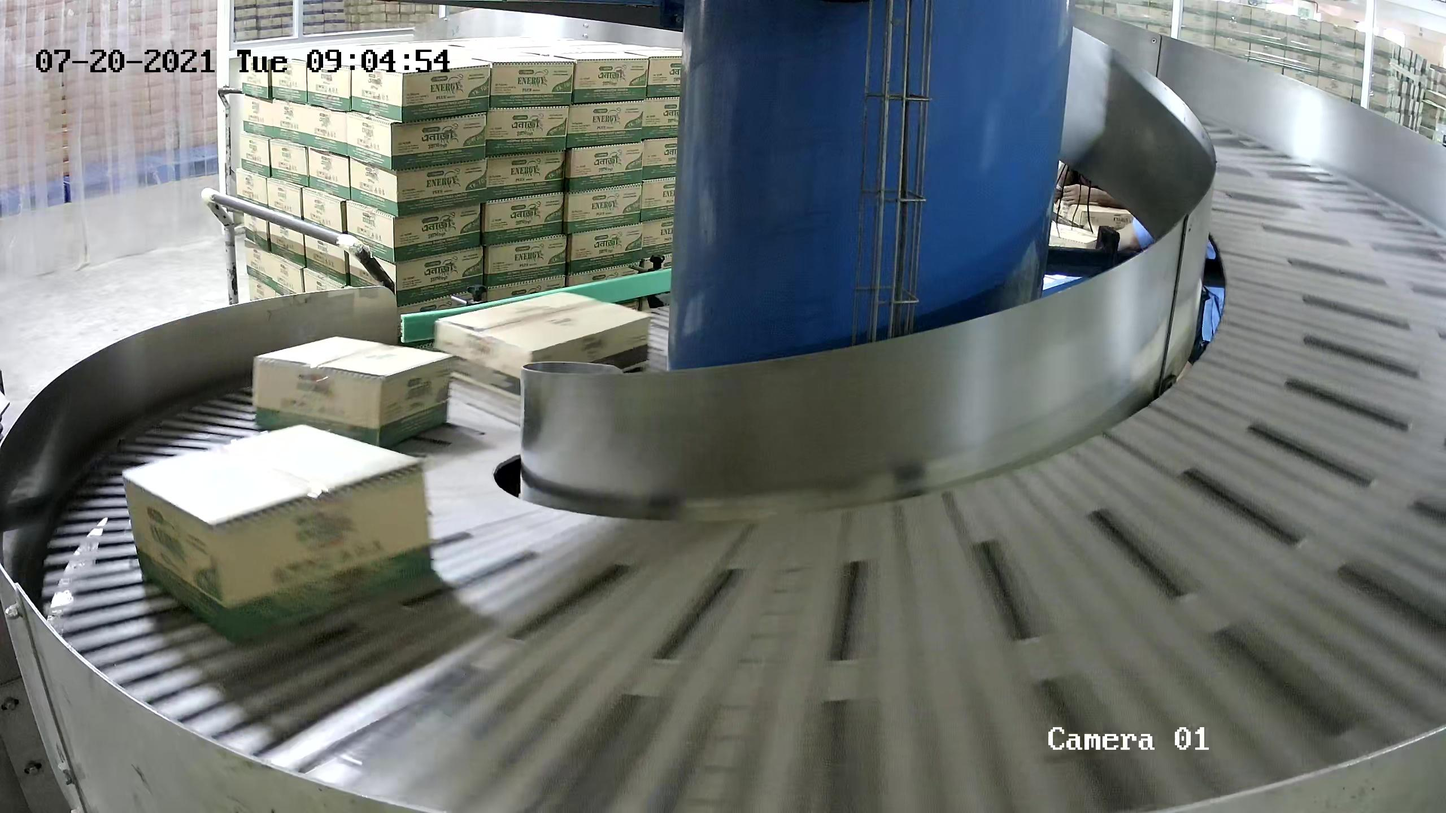Box: (120, 421, 437, 641), (431, 288, 654, 405), (250, 333, 457, 452)
